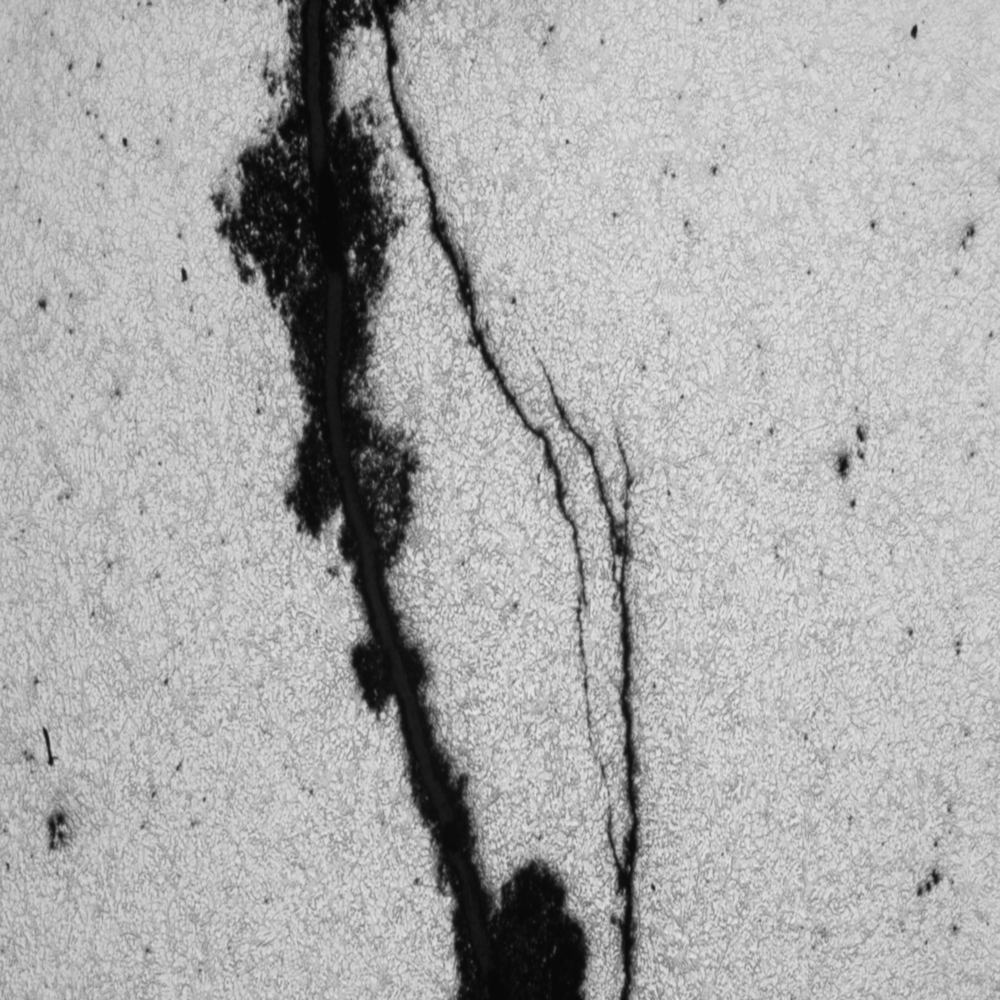crack: (198, 2, 651, 996)
